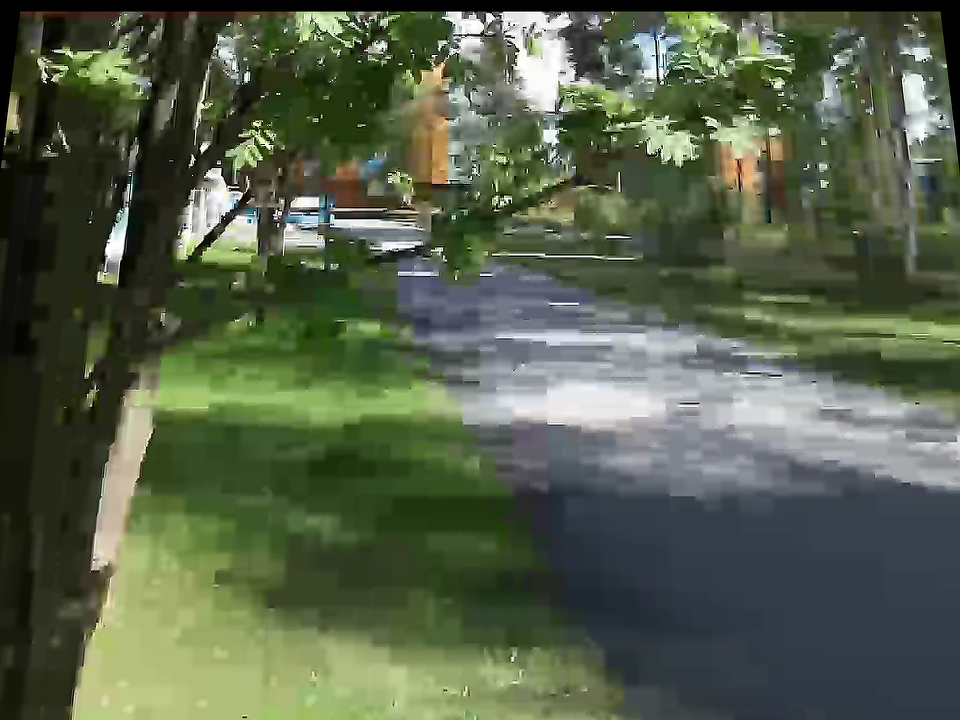branch: (317, 106, 656, 289)
trunk: (1, 37, 223, 709)
